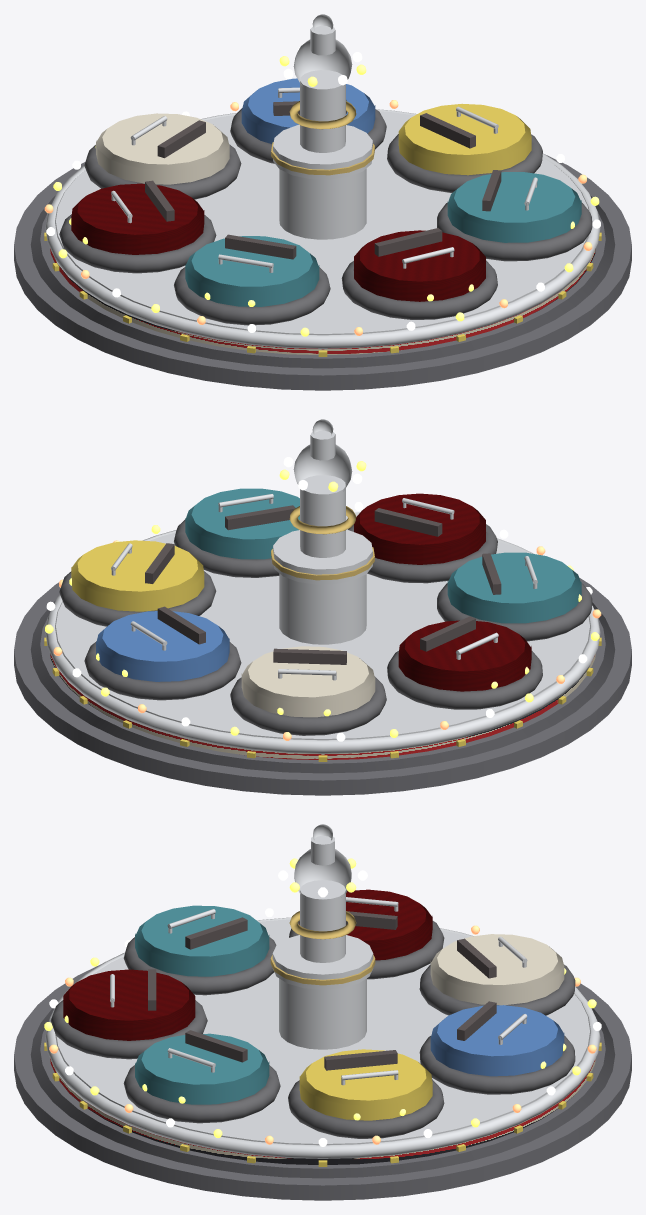
The model's file is ride_tilt.glb.
3 views of the same model, one above another, from view 1: azimuth 30°, elevation 25°; view 2: azimuth 150°, elevation 25°; view 3: azimuth 270°, elevation 25° (orthographic).
Parts seen in each view (by area): view 1: platform, skirt, pylon, car_1, car_7, car_6, car_2, car_3, car_5, car_4; view 2: platform, skirt, pylon, car_6, car_4, car_5, car_7, car_3, car_1, car_2; view 3: platform, skirt, pylon, car_2, car_4, car_3, car_1, car_7, car_5, car_6.
Boxes of the visible parts, left/top/right/bottom form: platform: left=44, top=109, right=601, bottom=356; skirt: left=14, top=154, right=631, bottom=390; pylon: left=271, top=14, right=374, bottom=239; car_1: left=341, top=228, right=497, bottom=319; car_7: left=174, top=234, right=330, bottom=325; car_6: left=59, top=180, right=216, bottom=273; car_2: left=437, top=170, right=592, bottom=261; car_3: left=387, top=103, right=542, bottom=192; car_5: left=84, top=113, right=241, bottom=199; car_4: left=230, top=78, right=386, bottom=163; platform: left=44, top=512, right=601, bottom=761; skirt: left=14, top=578, right=631, bottom=795; pylon: left=271, top=419, right=374, bottom=644; car_6: left=387, top=616, right=542, bottom=709; car_4: left=84, top=606, right=241, bottom=700; car_5: left=230, top=646, right=386, bottom=735; car_7: left=437, top=552, right=592, bottom=641; car_3: left=59, top=540, right=216, bottom=626; car_1: left=348, top=493, right=497, bottom=583; car_2: left=174, top=488, right=299, bottom=577; platform: left=44, top=917, right=601, bottom=1166; skirt: left=14, top=964, right=631, bottom=1200; pylon: left=270, top=824, right=375, bottom=1049; car_2: left=123, top=1030, right=280, bottom=1123; car_4: left=419, top=1001, right=575, bottom=1094; car_3: left=288, top=1049, right=444, bottom=1138; car_1: left=50, top=969, right=207, bottom=1059; car_7: left=123, top=905, right=276, bottom=995; car_5: left=419, top=934, right=575, bottom=1015; car_6: left=289, top=889, right=444, bottom=979.
Bounding box in the file's own units: 5.9 × 2.58 × 5.9.
Materials: 16 (2 with a texture image).
